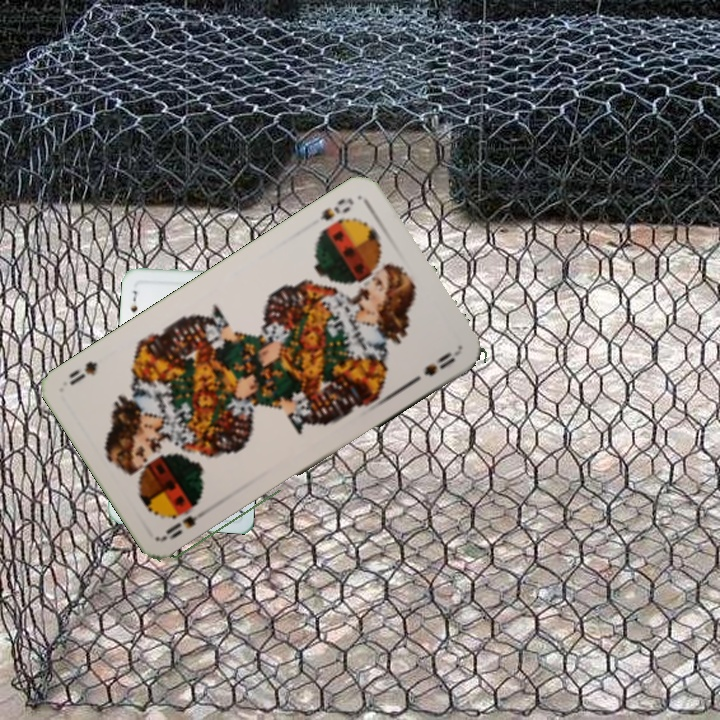S7: (127, 286, 140, 315)
SO: (161, 502, 214, 543), (315, 193, 357, 224)
